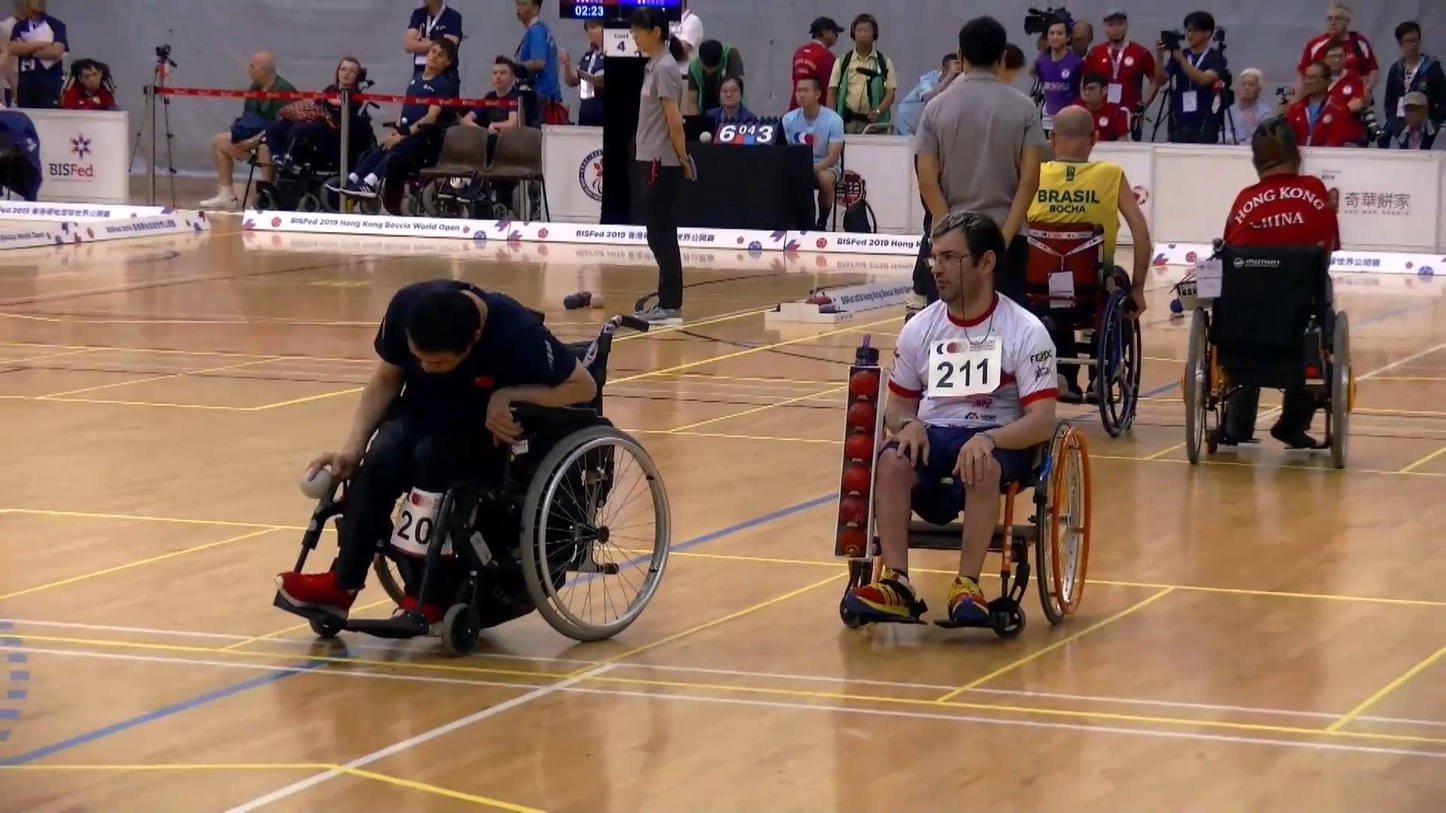blue_ball: (563, 293, 580, 312)
red_ball: (835, 492, 872, 529), (845, 366, 884, 401), (842, 399, 878, 435), (834, 526, 869, 561), (840, 432, 878, 464), (838, 460, 873, 492)
white_ball: (297, 463, 336, 503), (589, 293, 606, 310)
